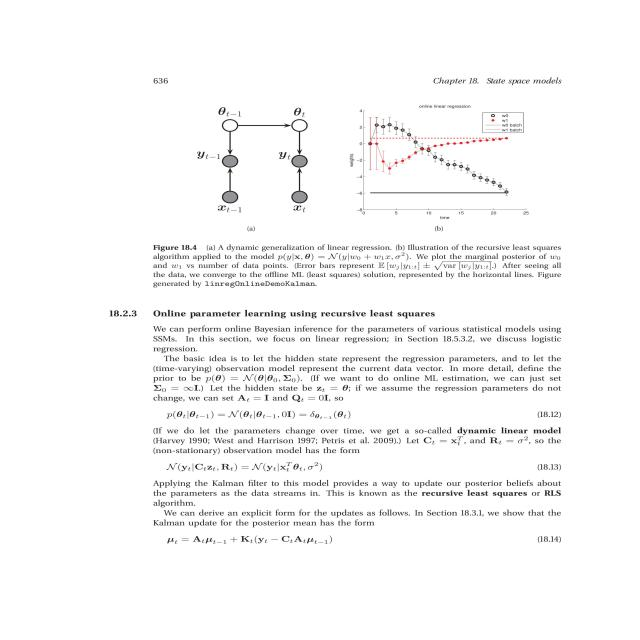diagram: (89, 106, 620, 297)
